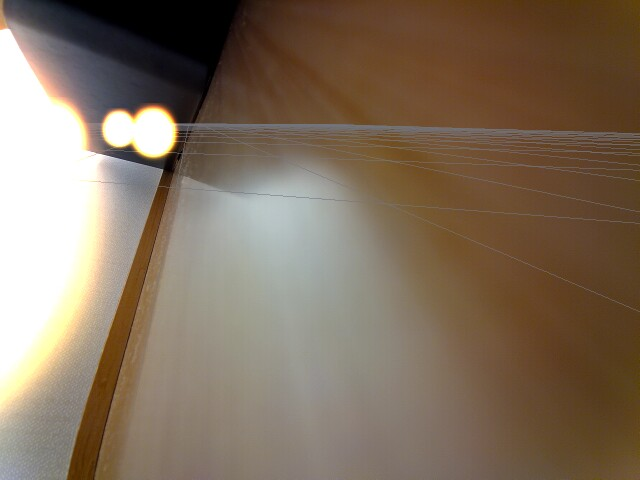firebig: (0, 53, 87, 412)
